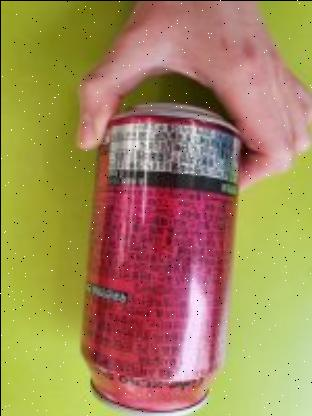Can: (76, 91, 242, 412)
